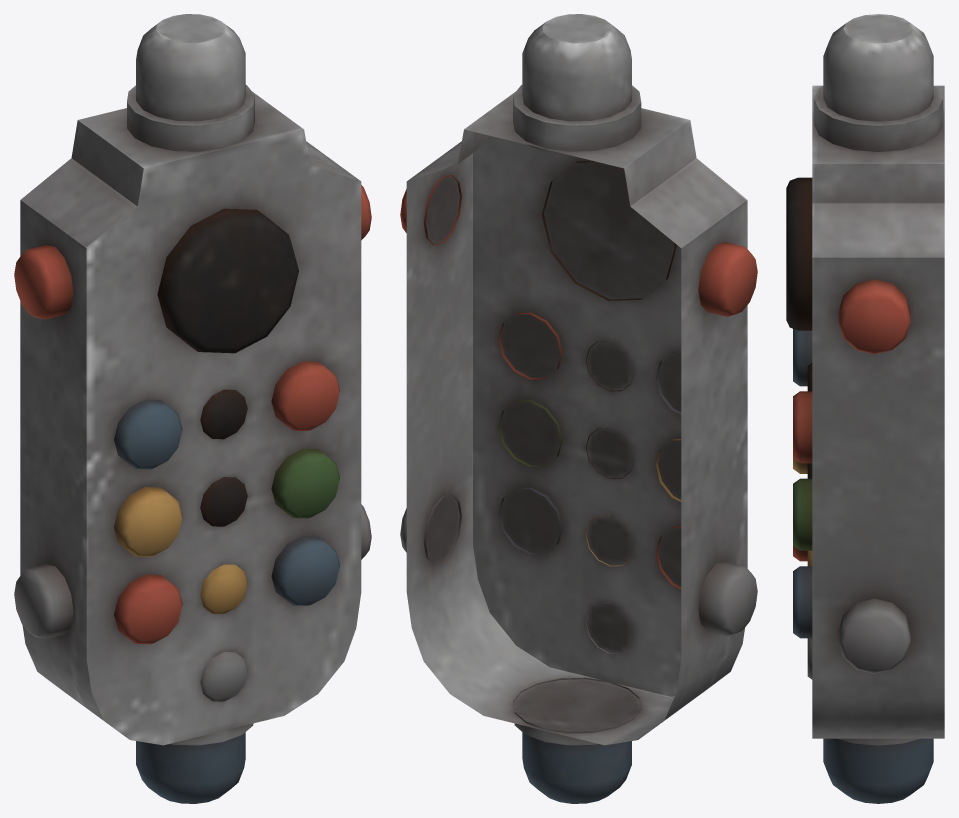
File: Cables01_12.glb
The picture shows the model from 3 angles, left to right: view 1: azimuth 30°, elevation 25°; view 2: azimuth 150°, elevation 25°; view 3: azimuth 270°, elevation 25°; orthographic projection.
Parts seen in each view (by area): view 1: Circle_026; view 2: Circle_026; view 3: Circle_026.
Part boxes in pixels (left/top/right/bottom): Circle_026: left=14, top=14, right=371, bottom=803; Circle_026: left=400, top=14, right=757, bottom=803; Circle_026: left=786, top=14, right=944, bottom=803.
Size of the model in its own units: 0.0976 by 0.2174 by 0.0411.
1 material, 1 textured.
